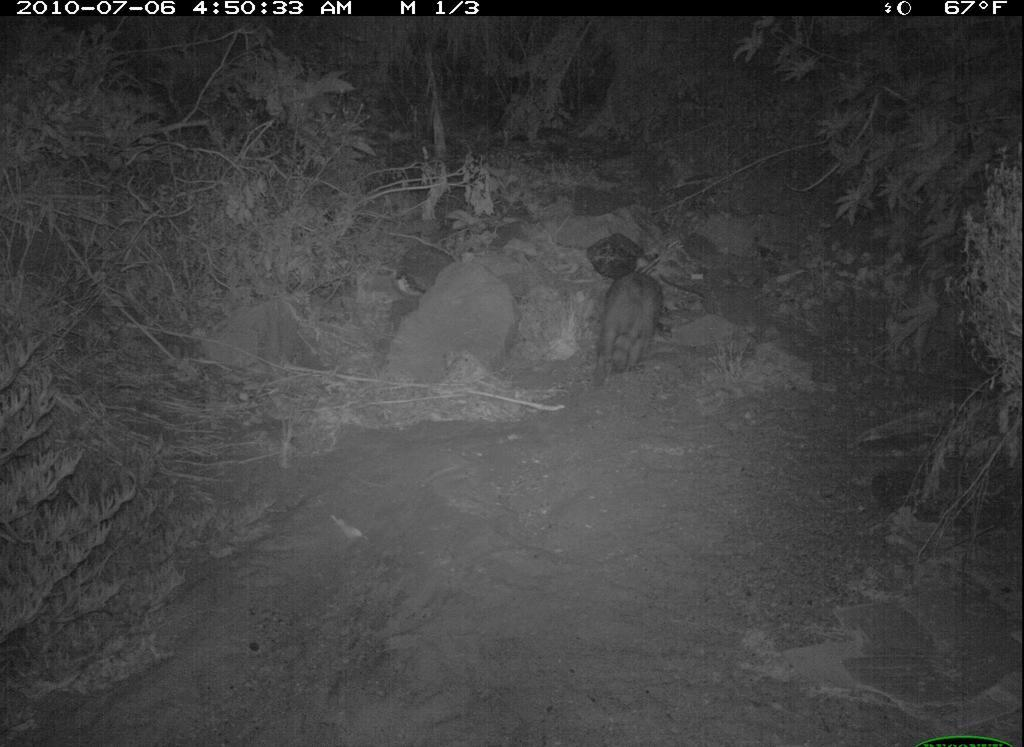raccoon: (584, 259, 676, 392)
